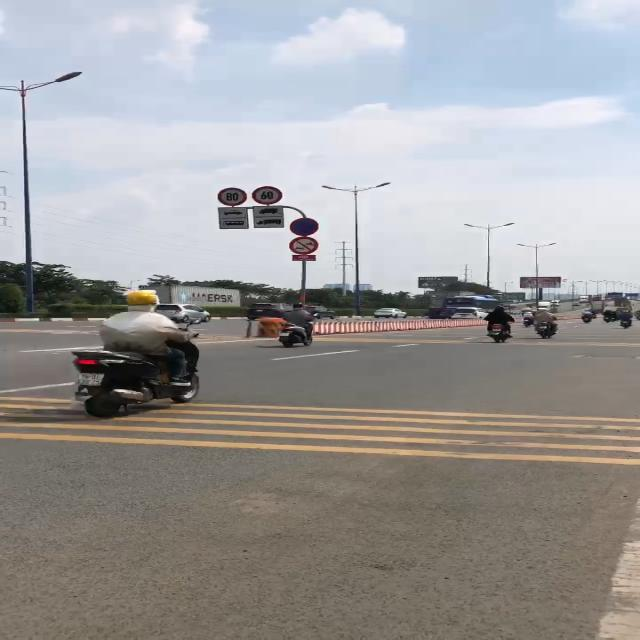Bien bao cam dung xe va do xe: (290, 216, 320, 236)
Bien bao toc do toi da cho phep: (250, 185, 286, 206), (215, 186, 250, 207)
